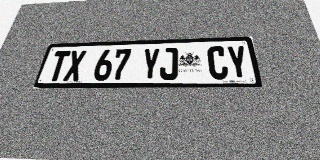6: (92, 49, 115, 81)
7: (110, 49, 131, 81)
C: (207, 46, 229, 80)
J: (159, 47, 178, 80)
T: (46, 51, 71, 81)
X: (63, 50, 87, 81)
Y: (226, 45, 250, 79), (140, 48, 160, 80)
